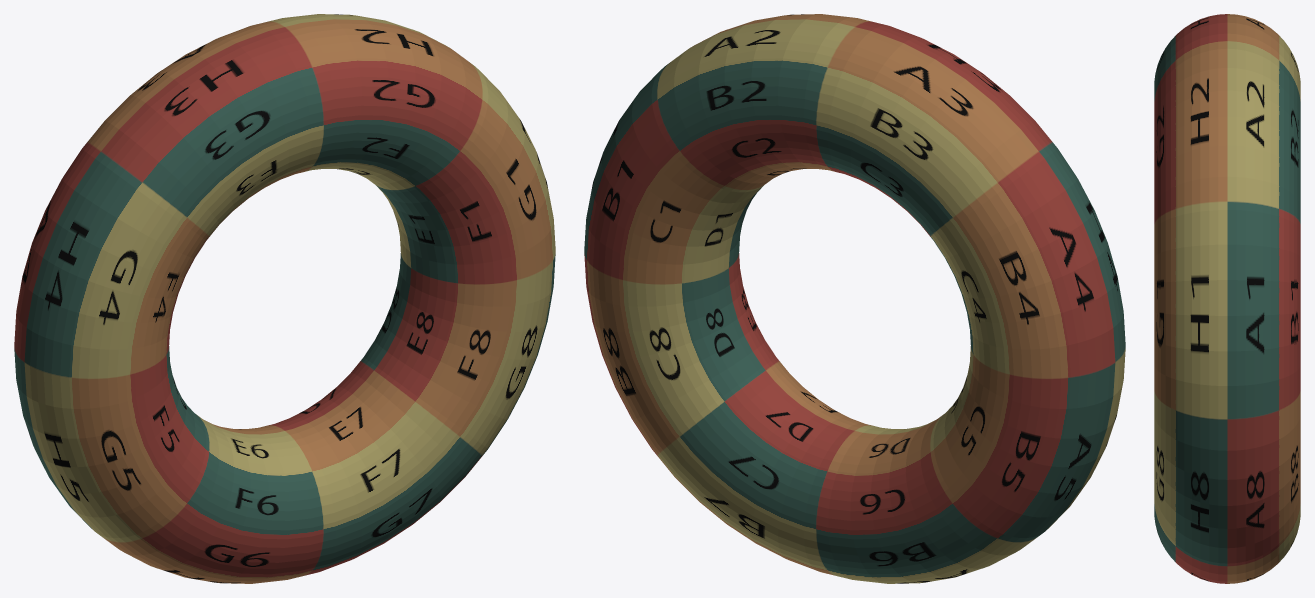
File: texture_torus_R19_r22.glb
3 renders of one model, left to right at view 1: azimuth 30°, elevation 25°; view 2: azimuth 150°, elevation 25°; view 3: azimuth 270°, elevation 25°, orthographic. The views are drawn at different scales.
Visible parts, largest first — view 1: world; view 2: world; view 3: world.
Boxes of the visible parts, x1,y1,x2,y2 form: world: [14, 14, 555, 583]; world: [584, 14, 1125, 583]; world: [1154, 14, 1300, 583].
Bounding box in the file's own units: 30.53 × 30.47 × 7.85.
1 material, 1 textured.
